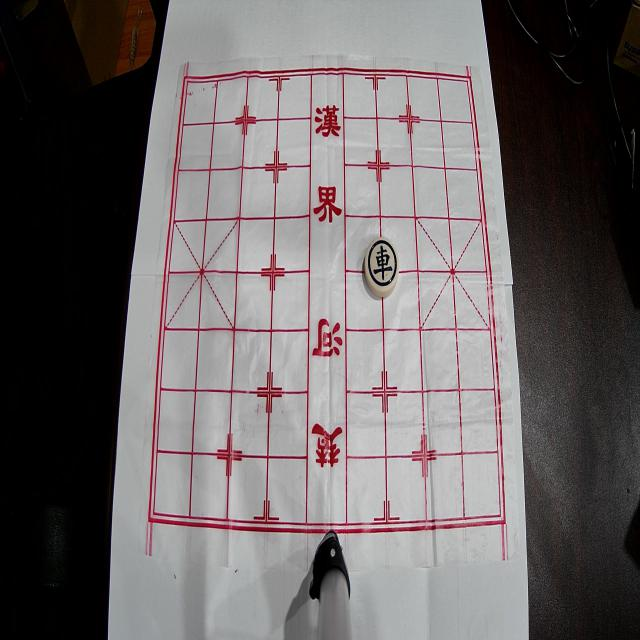black-chariot: (364, 237, 399, 297)
